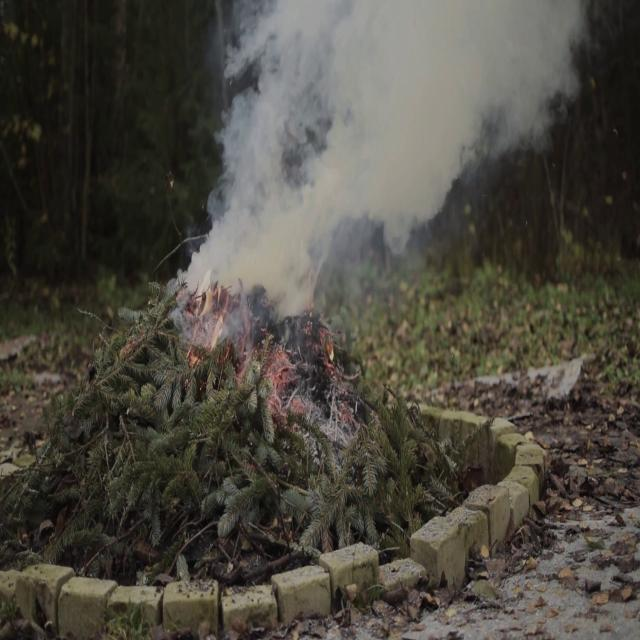Smoke: (182, 0, 590, 309)
